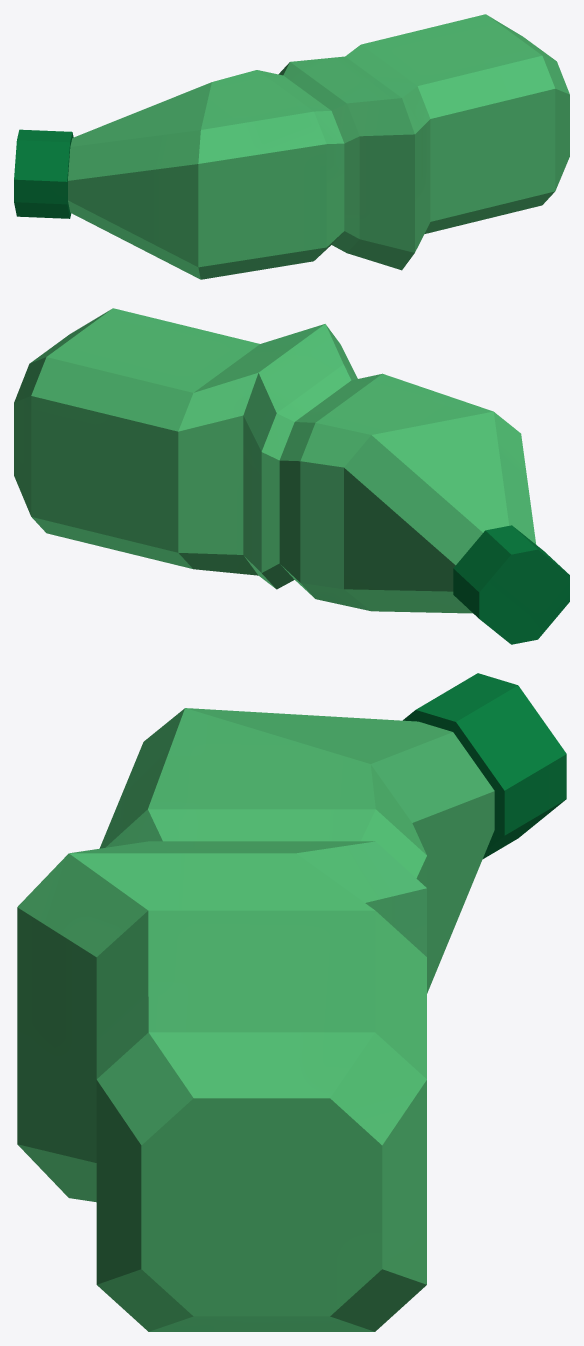
File: Bottle02.fbx
3 renders of one model, top to bottom at view 1: azimuth 30°, elevation 25°; view 2: azimuth 150°, elevation 25°; view 3: azimuth 270°, elevation 25°, orthographic. The views are drawn at different scales.
Visible parts, largest first — view 1: Bottle02; view 2: Bottle02; view 3: Bottle02.
Part boxes in pixels (x1,y1,x2,y2): Bottle02: [14, 14, 569, 279]; Bottle02: [14, 308, 569, 644]; Bottle02: [17, 673, 566, 1331].
Size of the model in its own units: 421 by 143 by 207.
